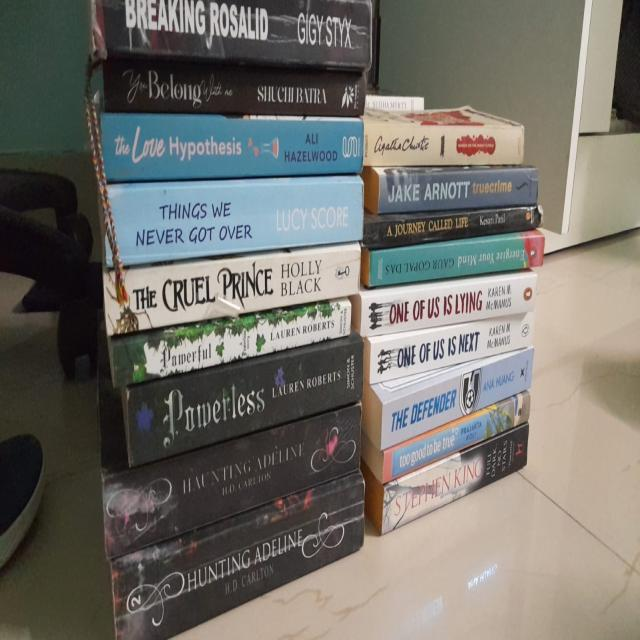book: (103, 403, 362, 562), (111, 483, 366, 639), (124, 341, 363, 459), (108, 175, 363, 267), (106, 249, 361, 339), (97, 0, 367, 71), (102, 112, 363, 182), (379, 422, 528, 536), (382, 349, 535, 451), (102, 58, 367, 116), (370, 312, 535, 385), (361, 272, 534, 335), (362, 202, 538, 252), (378, 167, 539, 214), (357, 126, 527, 166)
